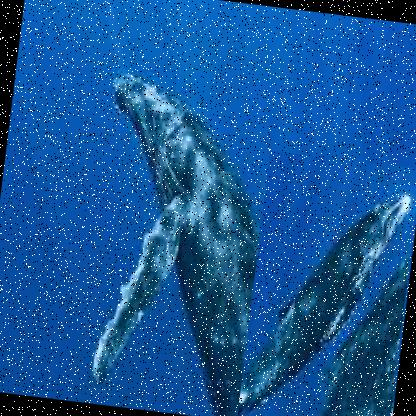blue_whale: (56, 53, 365, 415), (236, 150, 415, 415)
